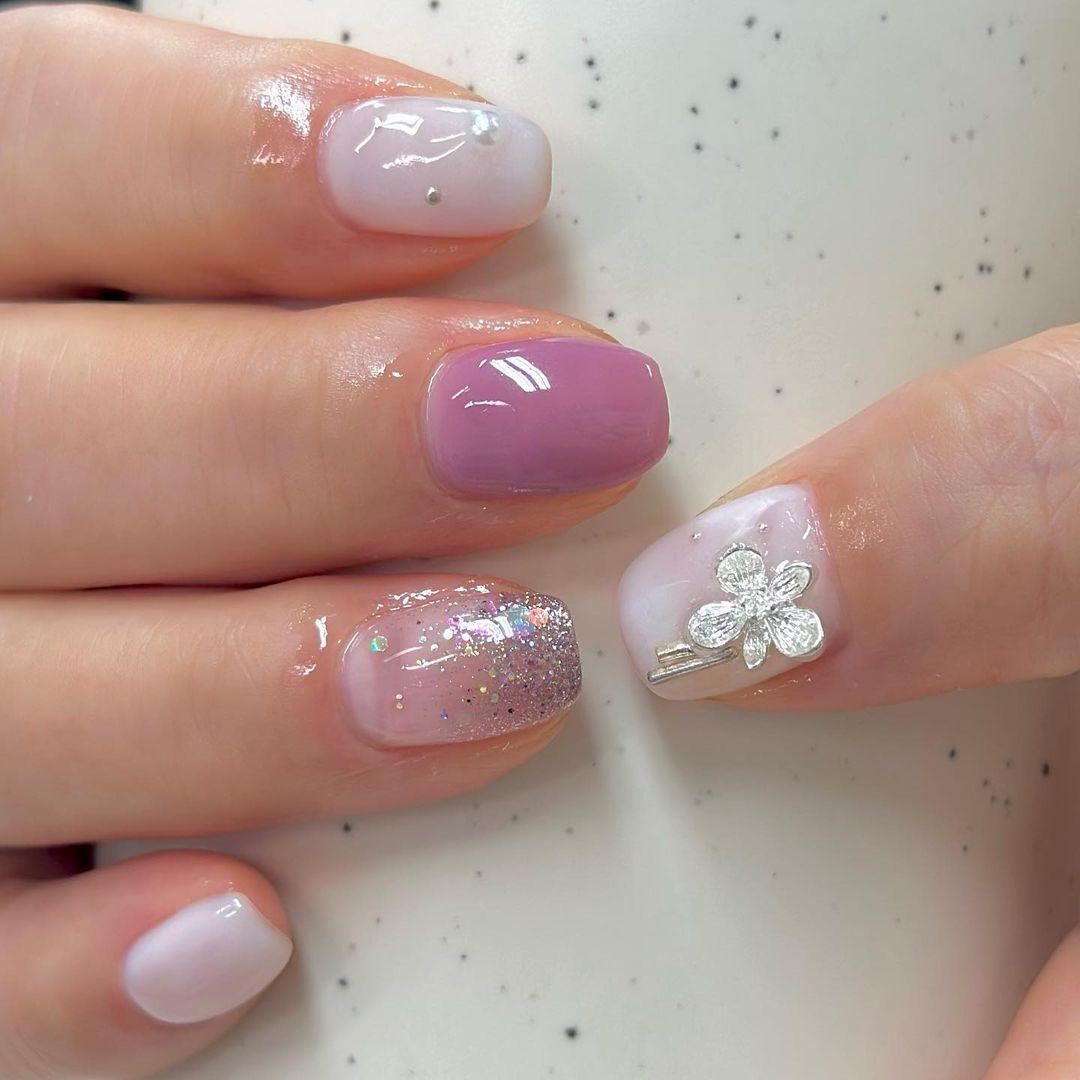nail: (619, 487, 840, 700), (336, 578, 582, 751), (419, 332, 670, 501), (316, 92, 552, 239), (120, 889, 293, 1026)
